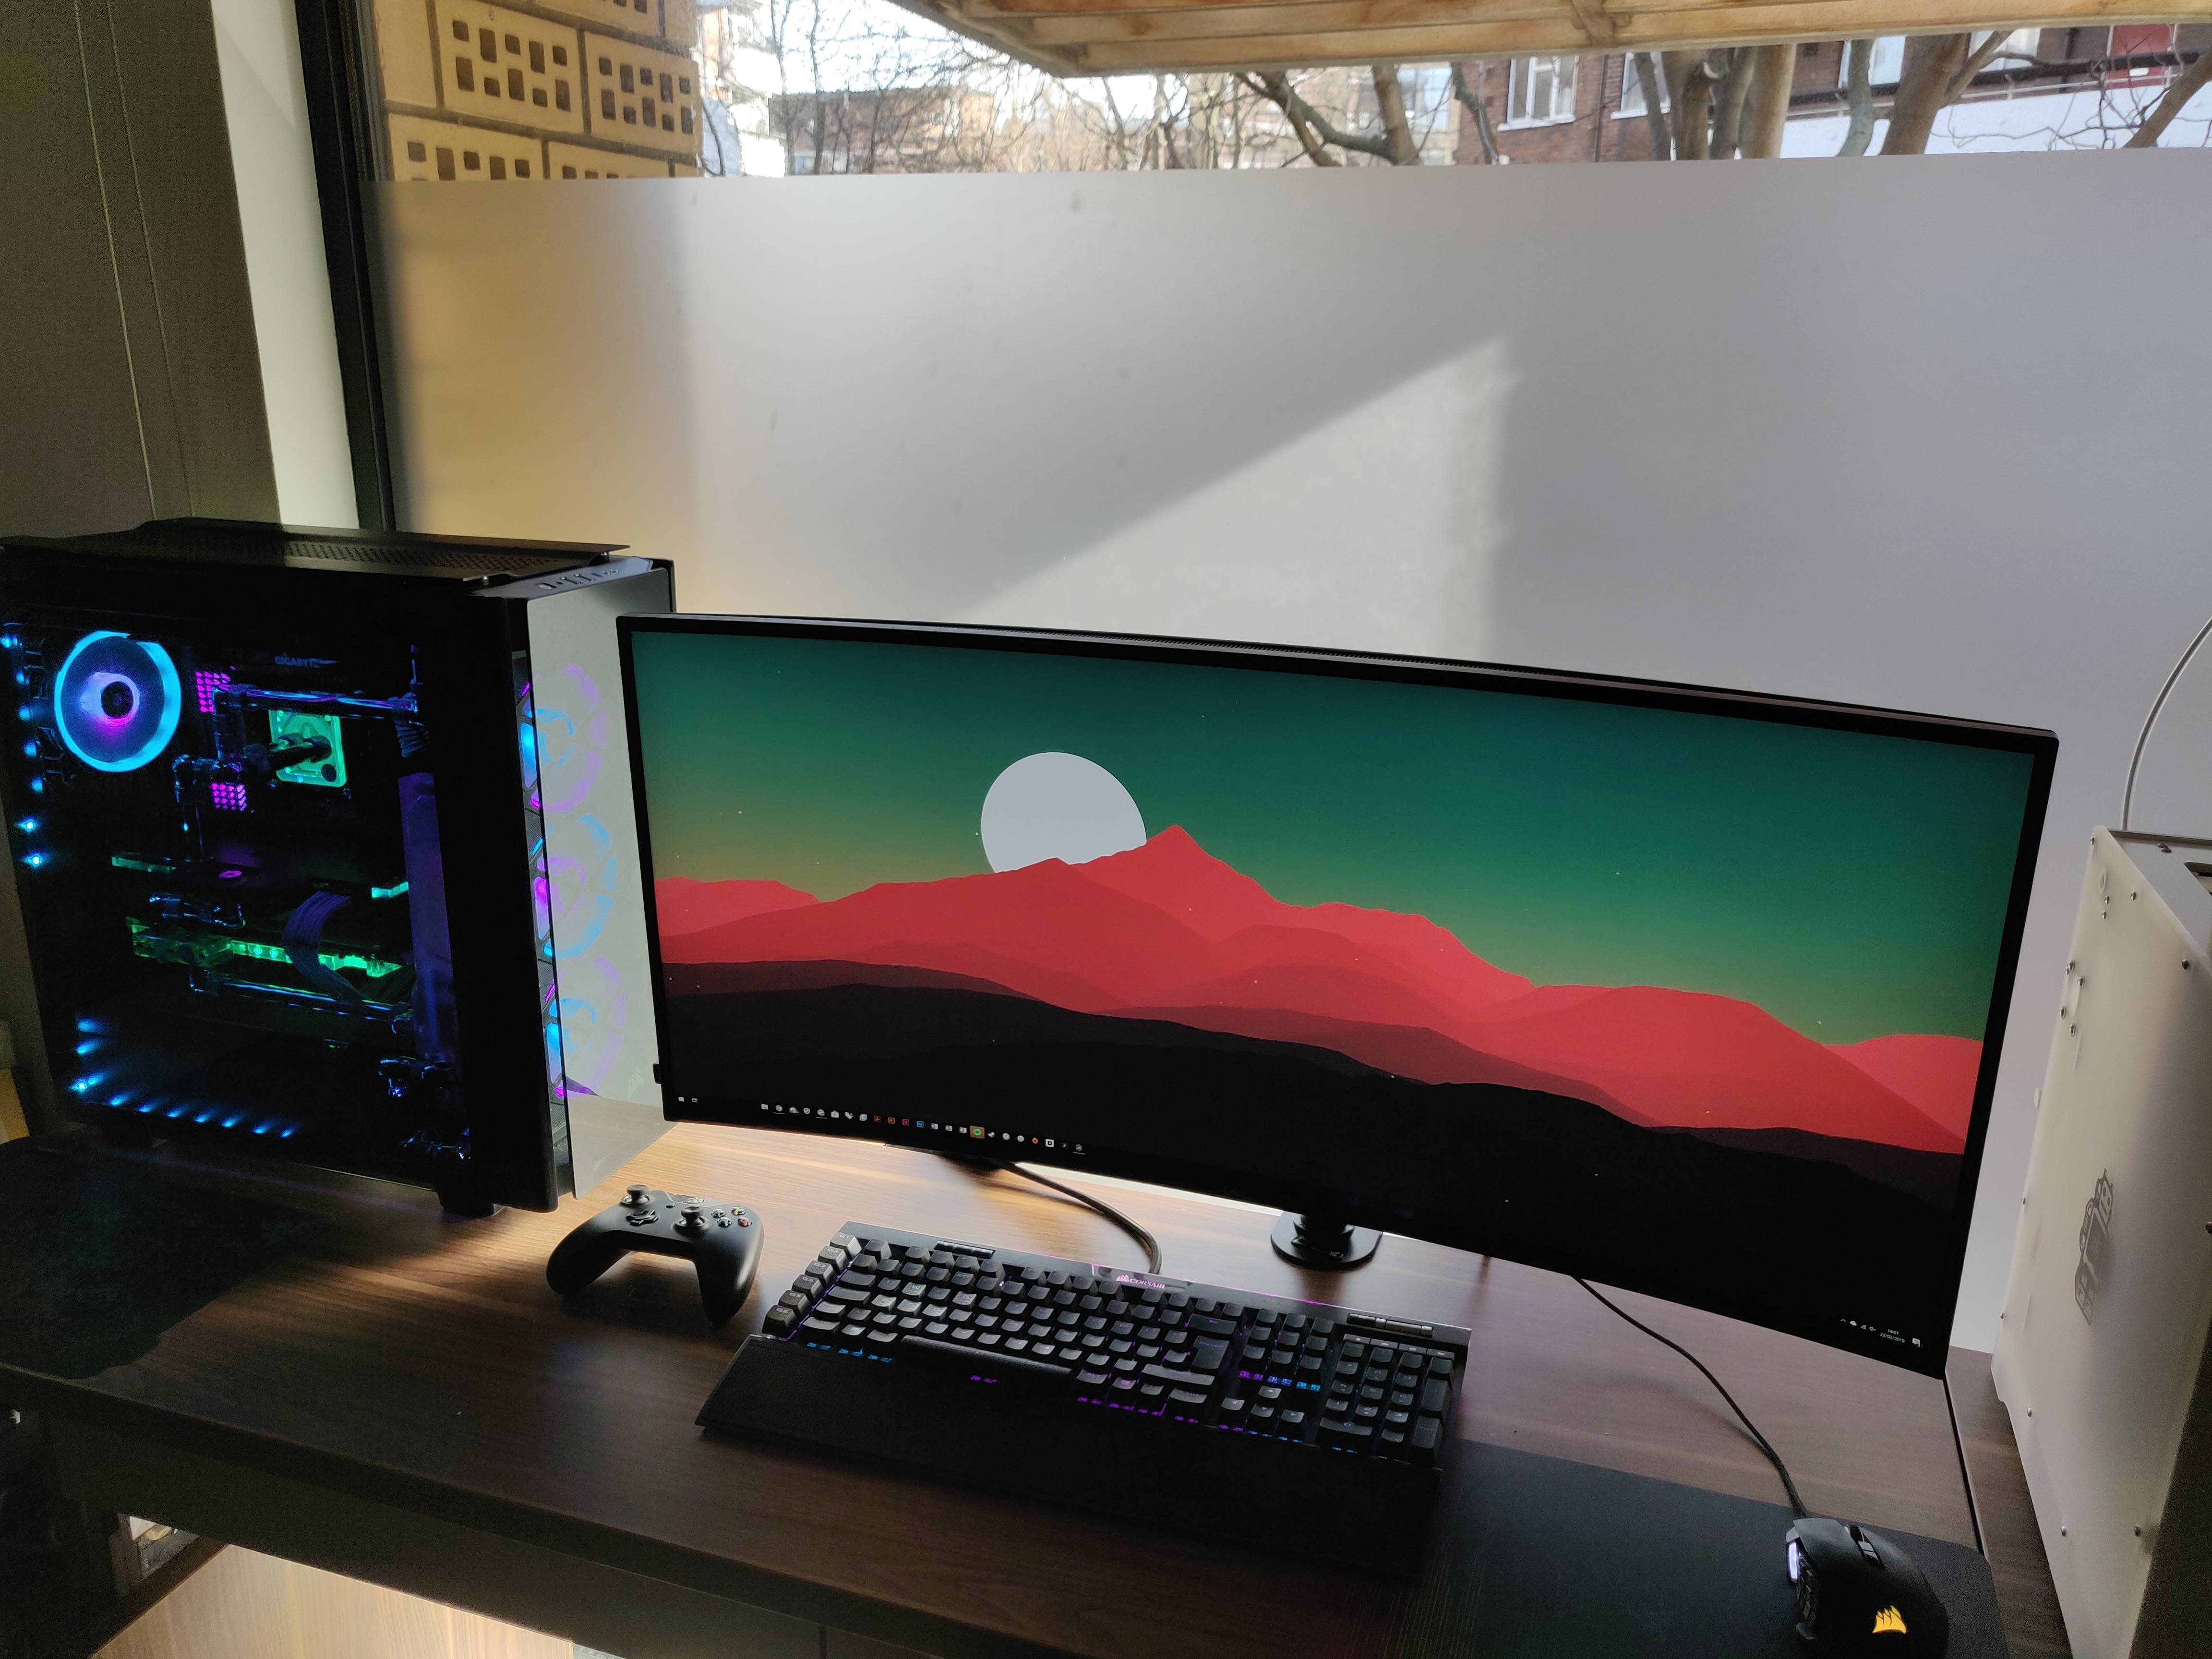Desk (Generic): (0, 1039, 2055, 1642)
Desktop (Windows): (0, 509, 723, 1175)
Gaming Controller: (542, 1171, 782, 1314)
Keyboard (Gaming): (766, 1208, 1494, 1530)
Monitor (Landscape): (618, 605, 1972, 1368)
Mouse (Gaming): (1756, 1504, 1980, 1659)
Mousepad (Generic): (1381, 1403, 2006, 1657)
